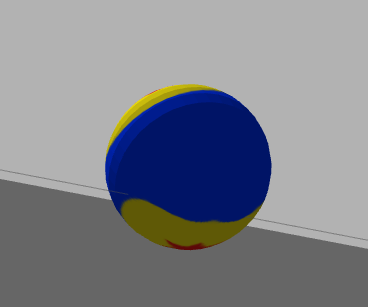toy story ball: (105, 82, 272, 250)
